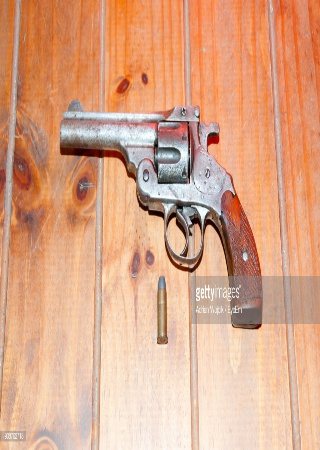handgun: (59, 96, 267, 330)
